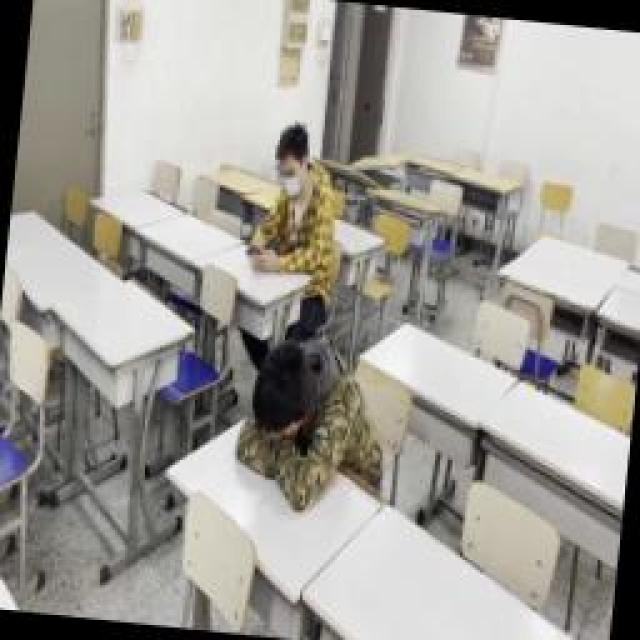phone: (248, 120, 340, 272)
sleep: (230, 345, 388, 517)
